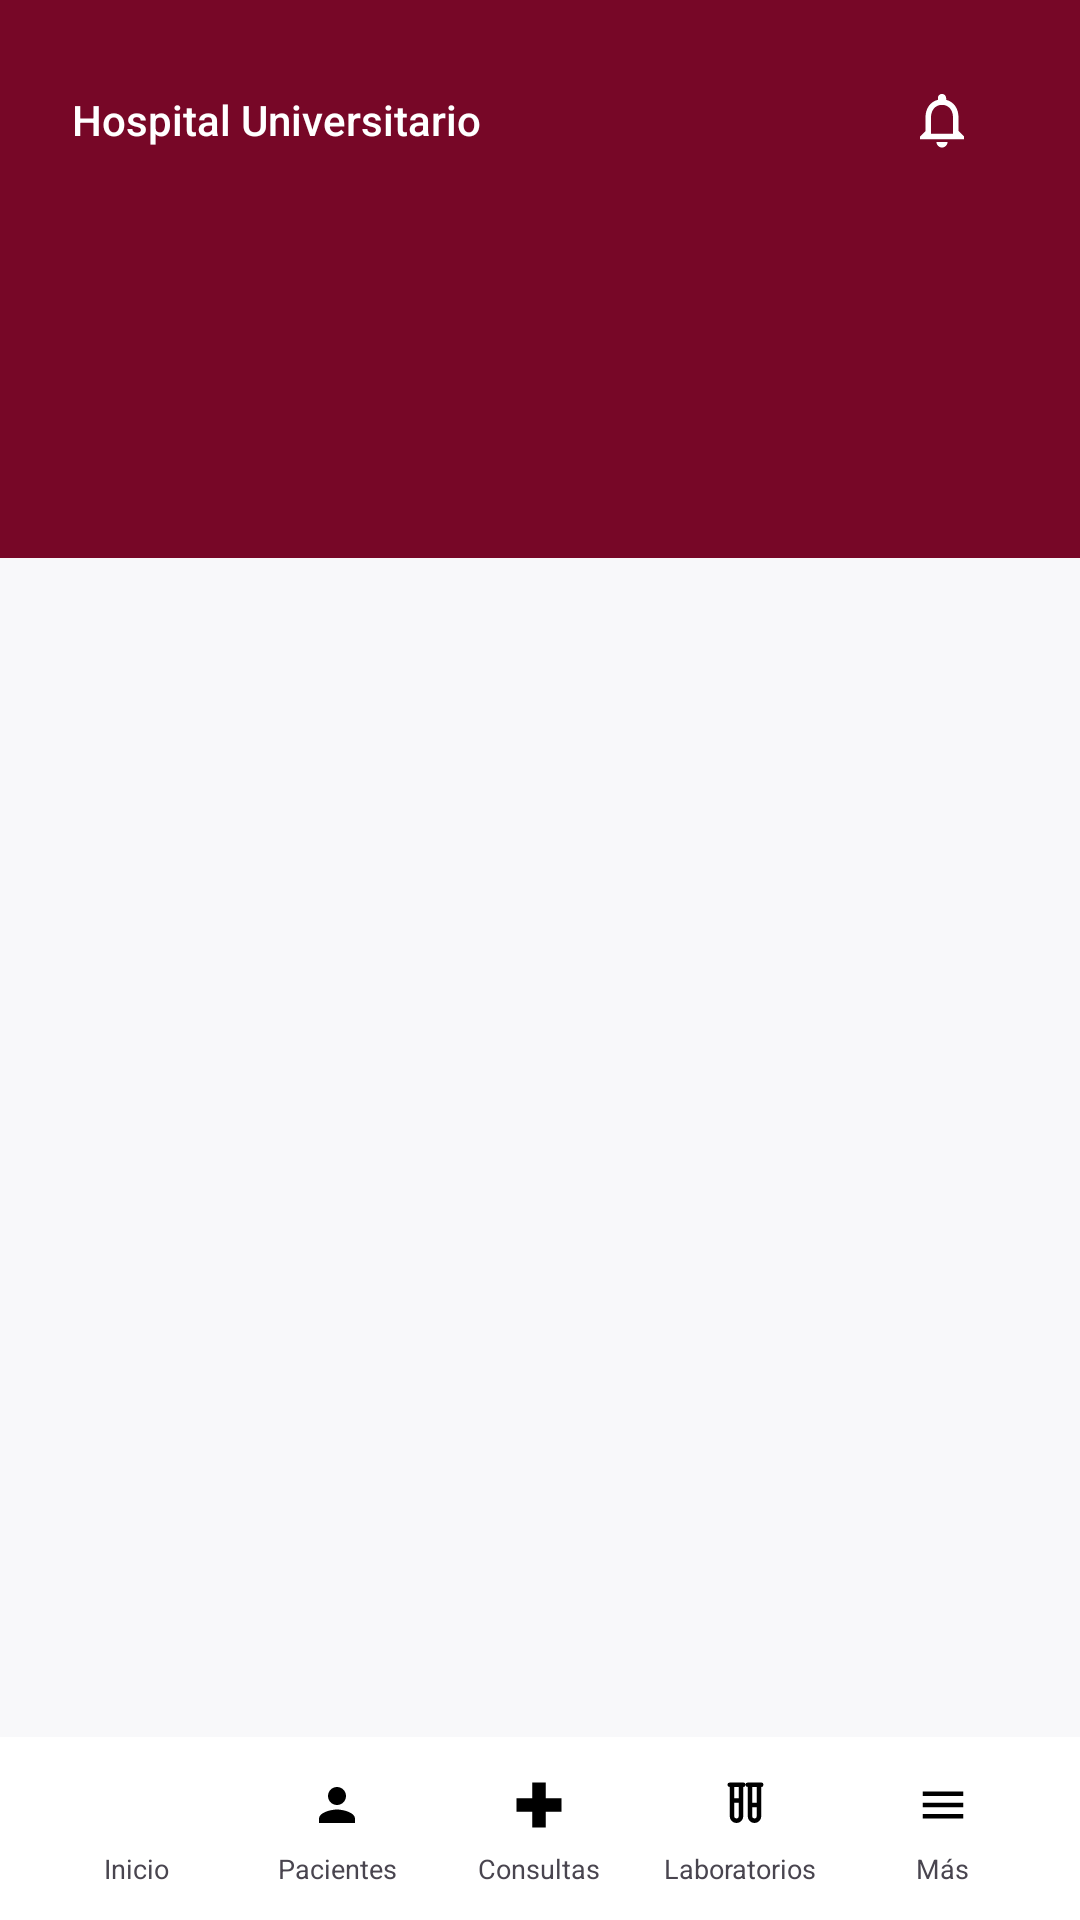

Icons on this 1080 x 1920 Android screen, each with the point to tap as (x,y):
bell: (942,121)
cross: (539,1805)
menu: (943,1805)
person: (337,1805)
testtube: (745,1802)
